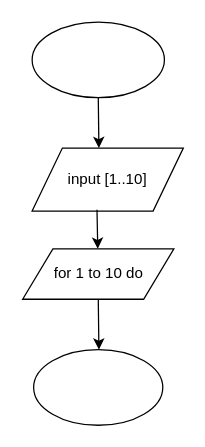
Image size: 205x447. Some labels were removed from this diagram. Each missing label, with the centre of its shape:
END: the point at 97,386
START: the point at 97,59
